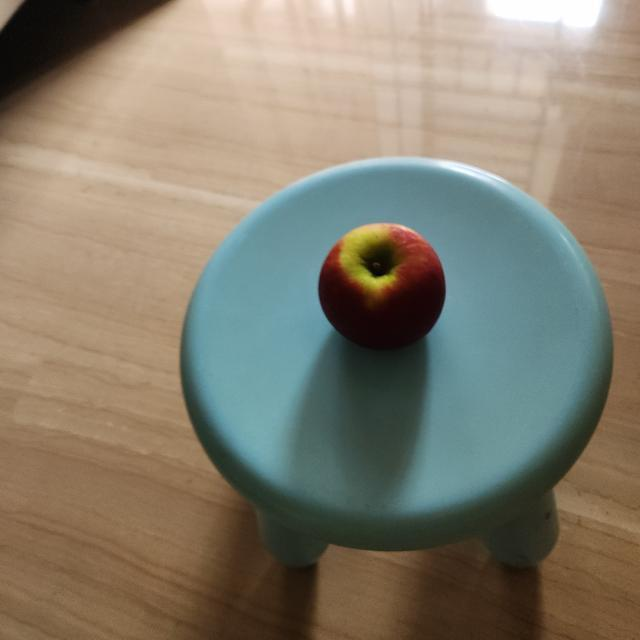apple: (313, 214, 452, 366)
